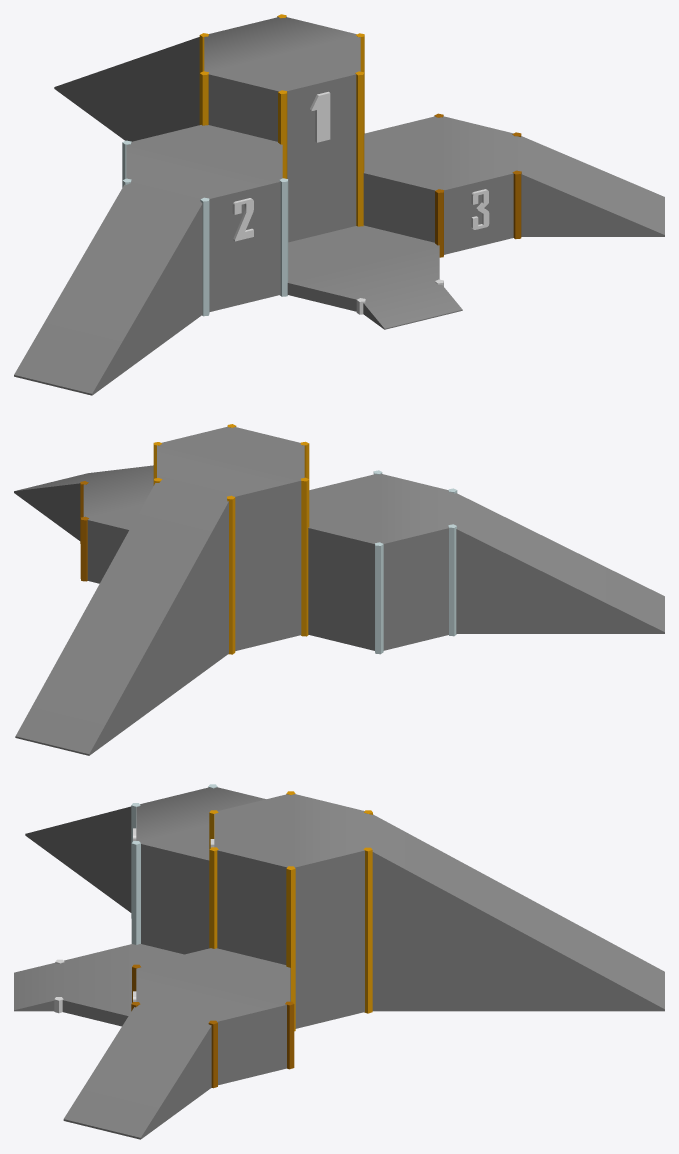
Rendered from SM_victorypodium_2.fbx.
3 renders of one model, top to bottom at view 1: azimuth 30°, elevation 25°; view 2: azimuth 150°, elevation 25°; view 3: azimuth 270°, elevation 25°, orthographic. The views are drawn at different scales.
Visible parts, largest first — view 1: pCylinder2, pCylinder1, pCylinder3, pCylinder4, pCylinder5, pCylinder17, pCylinder18, typeMesh1, pCylinder6, typeMesh2, pCylinder13, pCylinder14; view 2: pCylinder1, pCylinder2, pCylinder3, pCylinder7, pCylinder8, pCylinder20, pCylinder19, pCylinder11; view 3: pCylinder1, pCylinder3, pCylinder2, pCylinder4, pCylinder9, pCylinder10, pCylinder17, pCylinder5, pCylinder11.
Boxes of the visible parts, box(x1,y1,x2,y2) form: pCylinder2: box(14, 125, 282, 395); pCylinder1: box(54, 17, 360, 242); pCylinder3: box(363, 116, 664, 254); pCylinder4: box(287, 225, 462, 329); pCylinder5: box(355, 71, 364, 226); pCylinder17: box(279, 178, 288, 296); pCylinder18: box(200, 197, 209, 316); typeMesh1: box(310, 91, 330, 142); pCylinder6: box(278, 90, 287, 178); typeMesh2: box(232, 198, 253, 241); pCylinder13: box(512, 170, 521, 239); pCylinder14: box(435, 189, 443, 257); pCylinder1: box(15, 426, 304, 755); pCylinder2: box(308, 473, 664, 650); pCylinder3: box(14, 465, 153, 583); pCylinder7: box(301, 477, 309, 636); pCylinder8: box(227, 495, 235, 654); pCylinder20: box(375, 542, 383, 654); pCylinder19: box(448, 524, 456, 636); pCylinder11: box(80, 516, 88, 581); pCylinder1: box(214, 794, 664, 1028); pCylinder3: box(63, 948, 290, 1139); pCylinder2: box(25, 787, 265, 954); pCylinder4: box(14, 944, 183, 1026); pCylinder9: box(363, 847, 372, 1013); pCylinder10: box(286, 866, 295, 1031); pCylinder17: box(131, 841, 140, 944); pCylinder5: box(209, 847, 218, 948); pCylinder11: box(285, 1001, 294, 1069).
Size of the model in its own units: 17.72 by 4.16 by 15.09.
